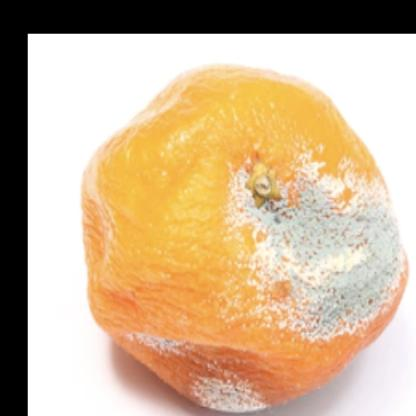rotten: (80, 65, 408, 416)
